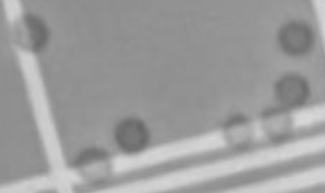cell: (4, 6, 54, 59), (68, 142, 119, 190), (109, 113, 152, 161), (217, 106, 257, 156), (271, 68, 312, 114), (259, 102, 298, 149), (273, 17, 316, 59)
